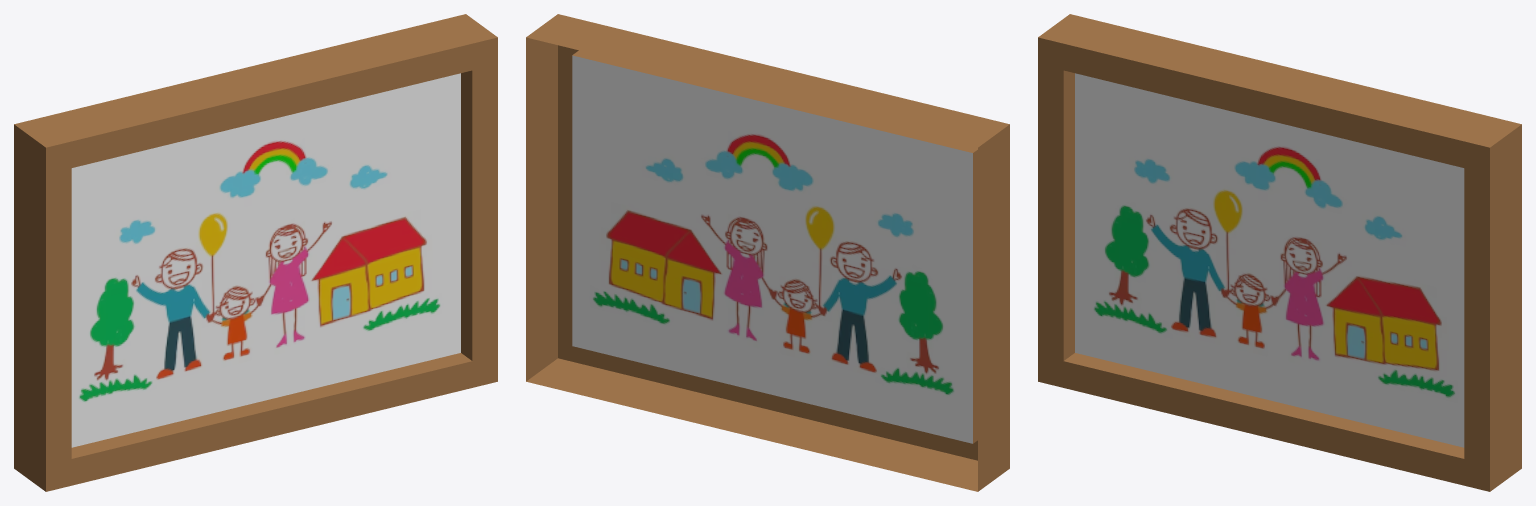
Rendered from Family painting.fbx.
The picture shows the model from 3 angles, left to right: view 1: azimuth 30°, elevation 25°; view 2: azimuth 150°, elevation 25°; view 3: azimuth 330°, elevation 25°; orthographic projection.
Visible parts, largest first — view 1: Family painting; view 2: Family painting; view 3: Family painting.
Part boxes in pixels (bbox=[...]): Family painting: bbox=[14, 14, 497, 491]; Family painting: bbox=[526, 14, 1009, 491]; Family painting: bbox=[1038, 14, 1521, 491].
Size of the model in its own units: 47.66 by 34.69 by 5.85.
